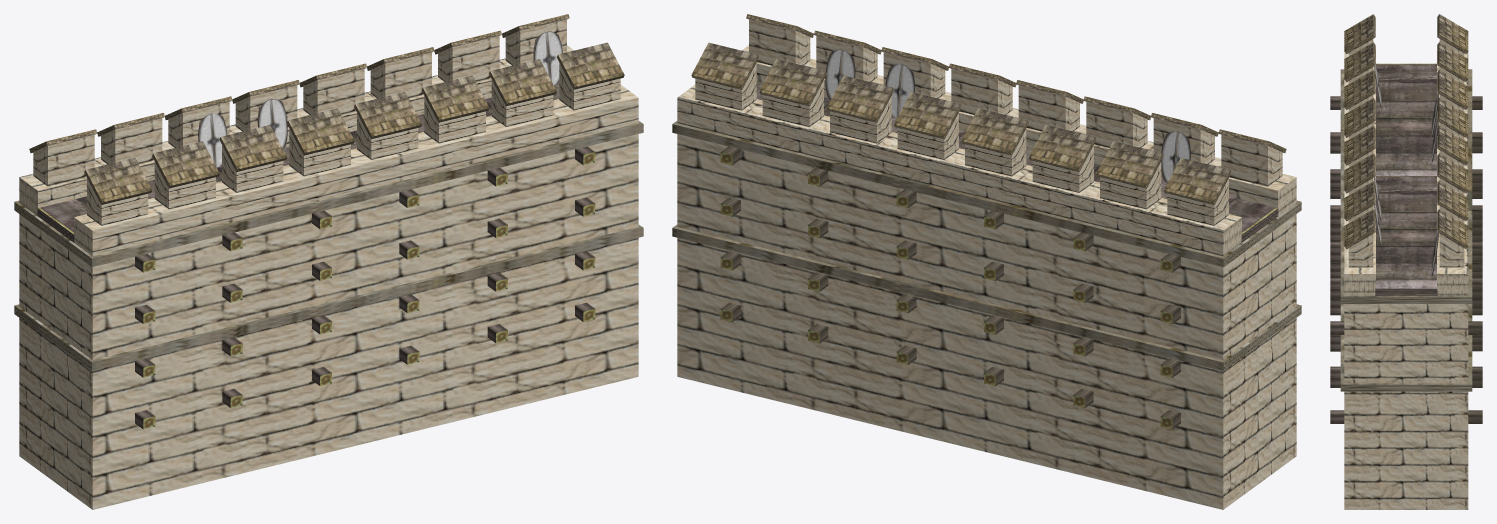
Rendered from wall_long.dae.
The picture shows the model from 3 angles, left to right: view 1: azimuth 30°, elevation 25°; view 2: azimuth 150°, elevation 25°; view 3: azimuth 270°, elevation 25°; orthographic projection. The views are drawn at different scales.
Visible parts, largest first — view 1: wall_long; view 2: wall_long; view 3: wall_long.
Part boxes in pixels (left/top/right/bottom): wall_long: left=14, top=14, right=643, bottom=509; wall_long: left=672, top=14, right=1301, bottom=509; wall_long: left=1330, top=14, right=1482, bottom=509.
Bounding box in the file's own units: 32.57 × 9.22 × 18.34.
